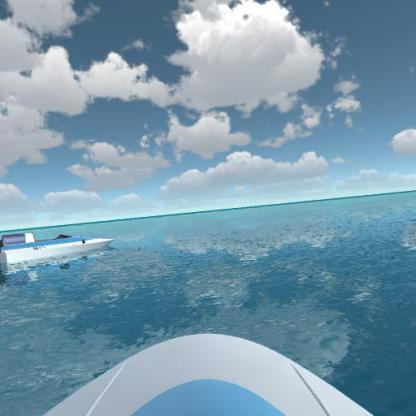usv1: (0, 224, 120, 278)
